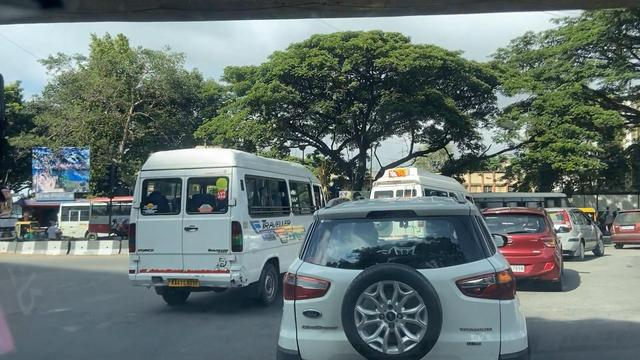HMV: (138, 165, 290, 293)
LMV: (304, 213, 514, 360), (493, 198, 562, 282)
